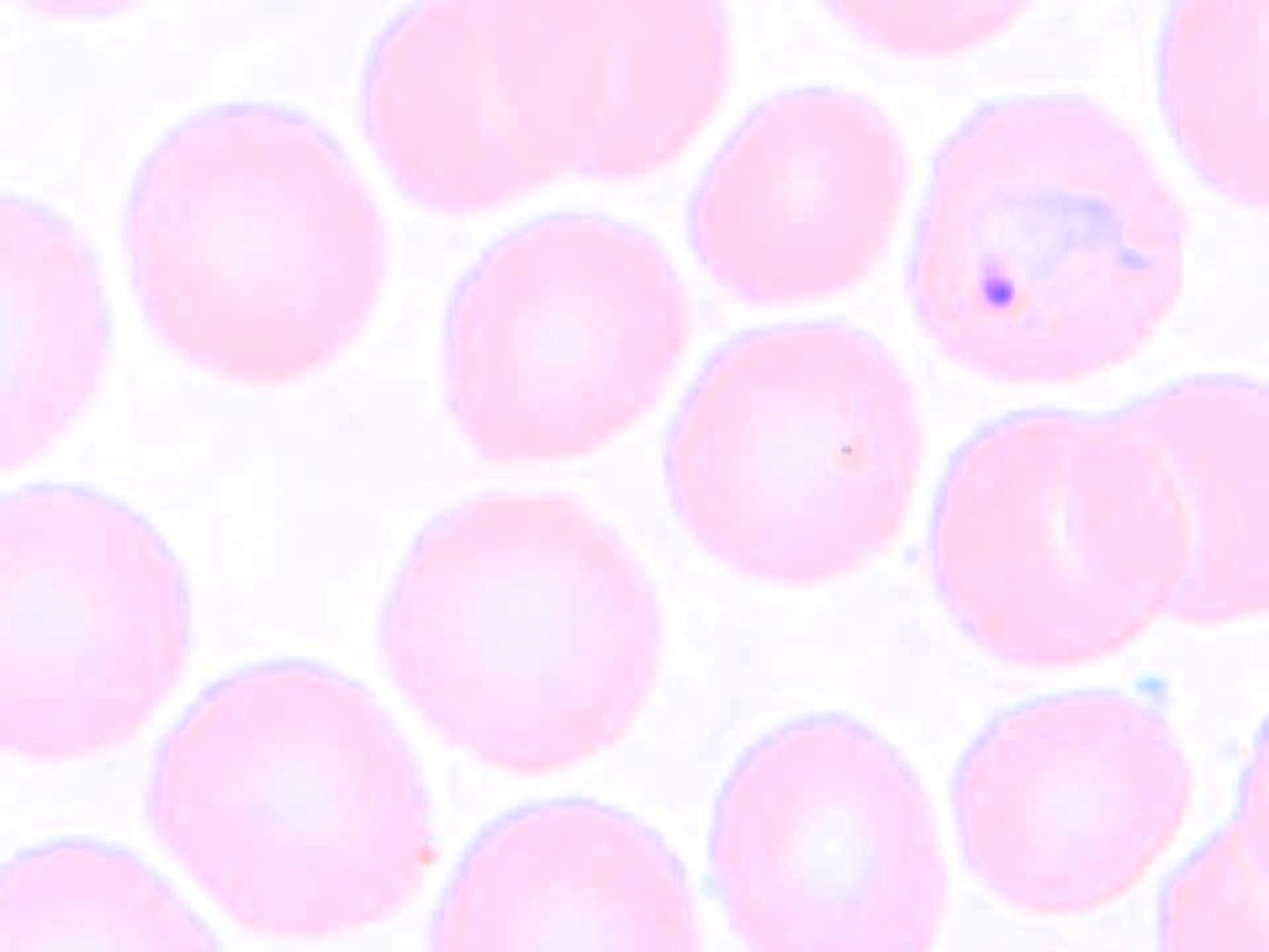Infected: (914, 93, 1187, 385)
Uninfected: (383, 493, 662, 770), (147, 661, 424, 934), (126, 109, 379, 381), (932, 410, 1194, 667), (668, 321, 920, 585), (438, 214, 685, 468), (711, 718, 944, 952), (952, 690, 1192, 916), (0, 488, 186, 758), (367, 0, 596, 209), (1075, 373, 1269, 619), (687, 90, 905, 303), (489, 0, 727, 175), (436, 802, 701, 952)
